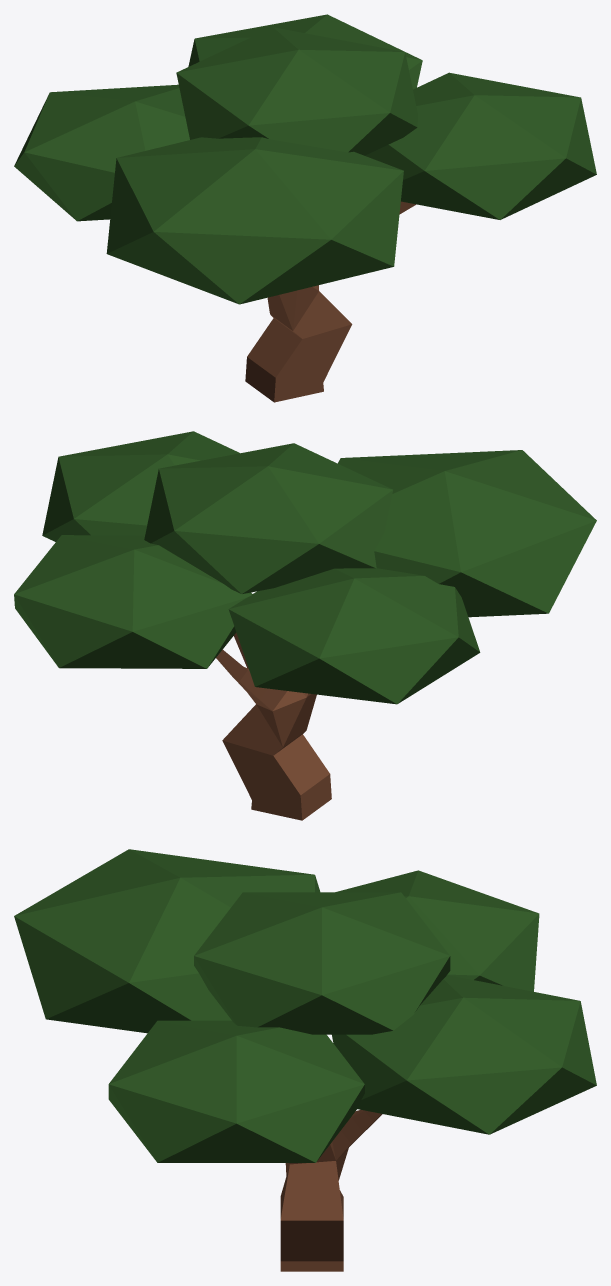
The model's file is Trees_FoodScene.fbx.
3 renders of one model, top to bottom at view 1: azimuth 30°, elevation 25°; view 2: azimuth 150°, elevation 25°; view 3: azimuth 270°, elevation 25°, orthographic. The views are drawn at different scales.
Parts seen in each view (by area): view 1: Icosphere.008, Icosphere.011, Icosphere.009, Icosphere.007, Vert.001, Icosphere.010; view 2: Icosphere.008, Icosphere.011, Icosphere.007, Icosphere.010, Icosphere.009, Vert.001; view 3: Icosphere.008, Icosphere.011, Icosphere.009, Icosphere.010, Icosphere.007, Vert.001.
Part boxes in pixels (left/top/right/bottom): Icosphere.008: left=106, top=137, right=403, bottom=304; Icosphere.011: left=176, top=27, right=417, bottom=155; Icosphere.009: left=365, top=72, right=596, bottom=219; Icosphere.007: left=14, top=84, right=189, bottom=221; Vert.001: left=245, top=201, right=416, bottom=402; Icosphere.010: left=188, top=14, right=422, bottom=89; Icosphere.008: left=338, top=450, right=596, bottom=617; Icosphere.011: left=144, top=443, right=392, bottom=593; Icosphere.007: left=228, top=568, right=480, bottom=704; Icosphere.010: left=14, top=535, right=252, bottom=668; Icosphere.009: left=42, top=431, right=239, bottom=541; Vert.001: left=216, top=632, right=331, bottom=820; Icosphere.008: left=14, top=849, right=320, bottom=1033; Icosphere.011: left=194, top=892, right=450, bottom=1034; Icosphere.009: left=108, top=1020, right=364, bottom=1162; Icosphere.010: left=332, top=975, right=596, bottom=1134; Icosphere.007: left=335, top=870, right=539, bottom=991; Vert.001: left=280, top=1109, right=382, bottom=1271.
Size of the model in its own units: 809 by 534 by 782.
